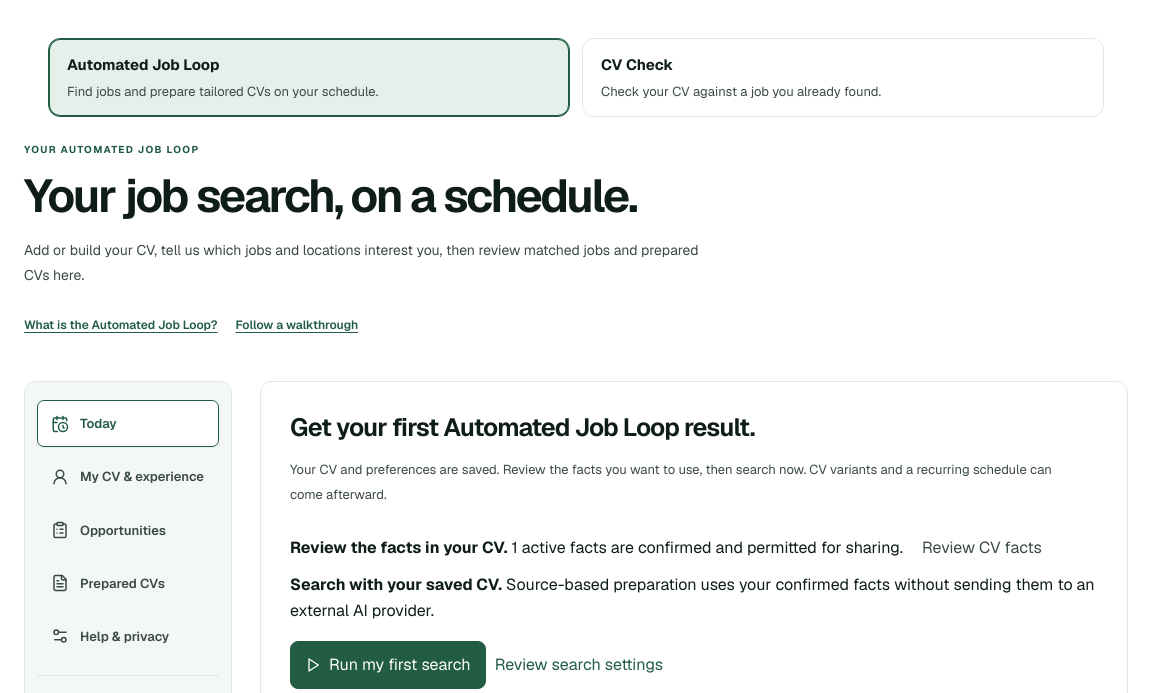
Test case: cloud loop consent and accurate capabilities › keeps an existing career record rather than replacing it with a landing-page preference
Step 1. Click the button "My CV & experience" → (128, 477), box [37, 454, 219, 501]
(page scrolled)
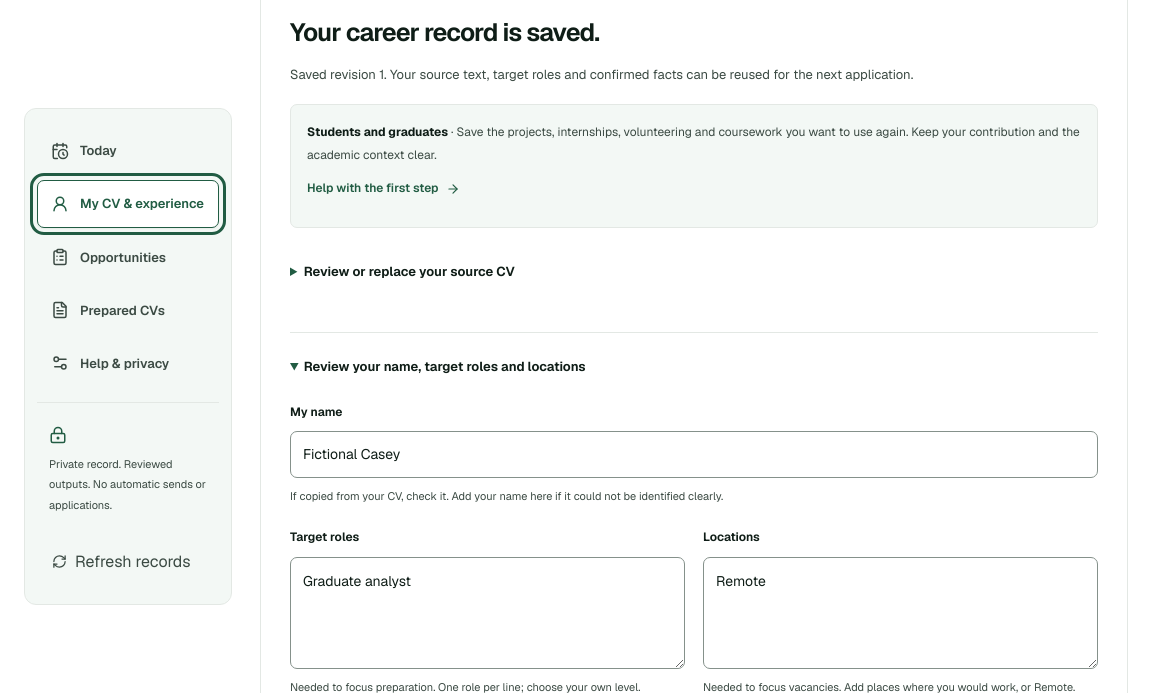
Check: the field labelled "My name" holds "Fictional Casey", box [290, 431, 1098, 478]
